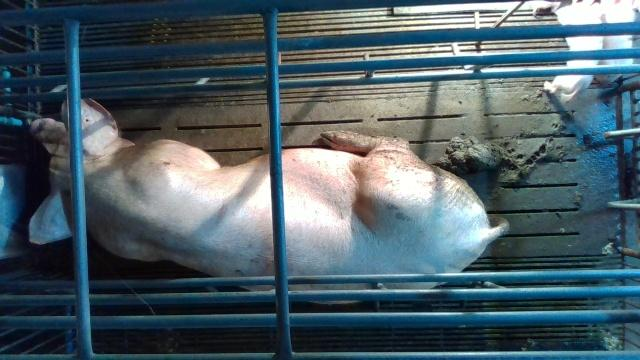piglet: (545, 1, 603, 96), (592, 0, 640, 86)
sow-sit: (30, 95, 509, 305)
